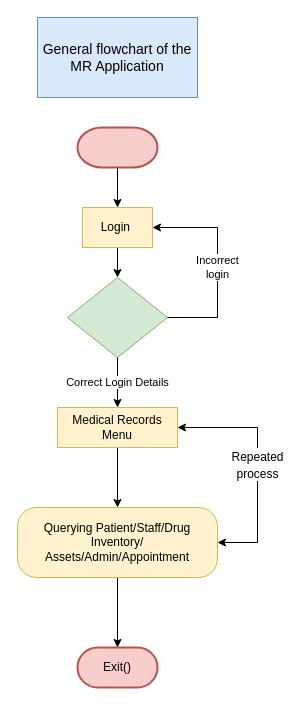
The diagram is 301 pixels wide and 706 high, and some of its shapes have lost their labels. Each missing label, with the box of its shape:
Check login details: (66, 276, 168, 358)
Start: (76, 126, 158, 168)
